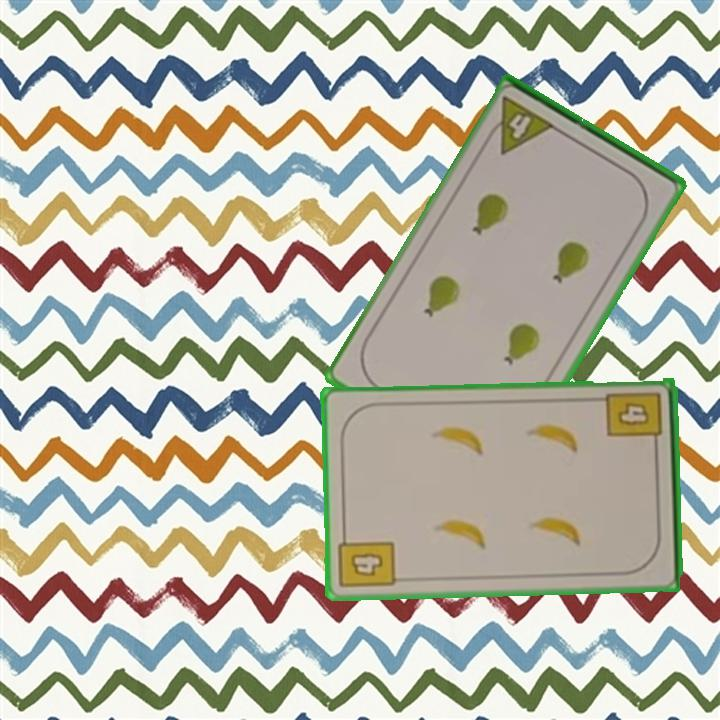4b: (336, 527, 398, 592), (603, 389, 666, 452)
4p: (481, 93, 558, 158)
